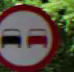No overtake: (0, 5, 65, 71)
